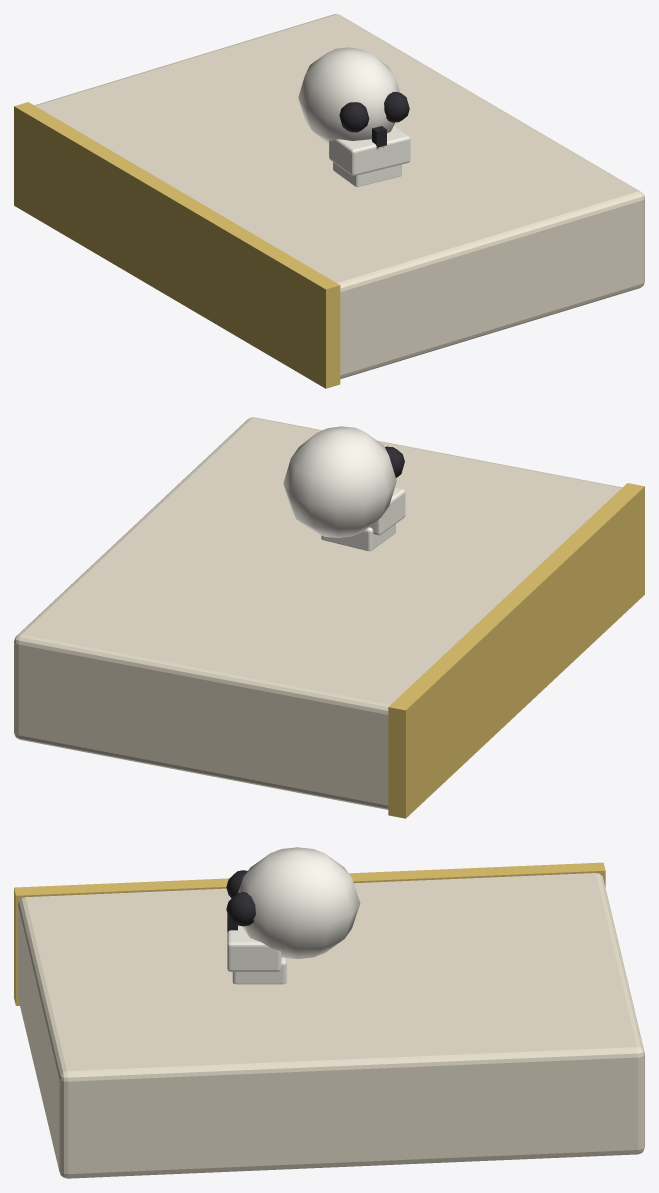
Rendered from grimoire_bone_cover.glb.
3 views of the same model, one above another, from view 1: azimuth 30°, elevation 25°; view 2: azimuth 150°, elevation 25°; view 3: azimuth 270°, elevation 25° (orthographic). The views are drawn at different scales.
Visible parts, largest first — view 1: GD_grimoire_bone_cover__m0, GD_grimoire_bone_cover__m2, GD_grimoire_bone_cover__m3, GD_grimoire_bone_cover__m4; view 2: GD_grimoire_bone_cover__m0, GD_grimoire_bone_cover__m2, GD_grimoire_bone_cover__m3; view 3: GD_grimoire_bone_cover__m0, GD_grimoire_bone_cover__m3, GD_grimoire_bone_cover__m2, GD_grimoire_bone_cover__m4.
Boxes of the visible parts, x1,y1,x2,y2 form: GD_grimoire_bone_cover__m0: (34, 14, 644, 378); GD_grimoire_bone_cover__m2: (14, 102, 340, 388); GD_grimoire_bone_cover__m3: (298, 47, 410, 186); GD_grimoire_bone_cover__m4: (339, 92, 409, 149); GD_grimoire_bone_cover__m0: (14, 417, 622, 809); GD_grimoire_bone_cover__m2: (388, 483, 644, 818); GD_grimoire_bone_cover__m3: (283, 426, 405, 551); GD_grimoire_bone_cover__m0: (18, 873, 644, 1178); GD_grimoire_bone_cover__m3: (227, 847, 360, 984); GD_grimoire_bone_cover__m2: (14, 862, 605, 1005); GD_grimoire_bone_cover__m4: (226, 870, 255, 932).
Bounding box in the file's own units: 0.2535 × 0.1281 × 0.3216.
